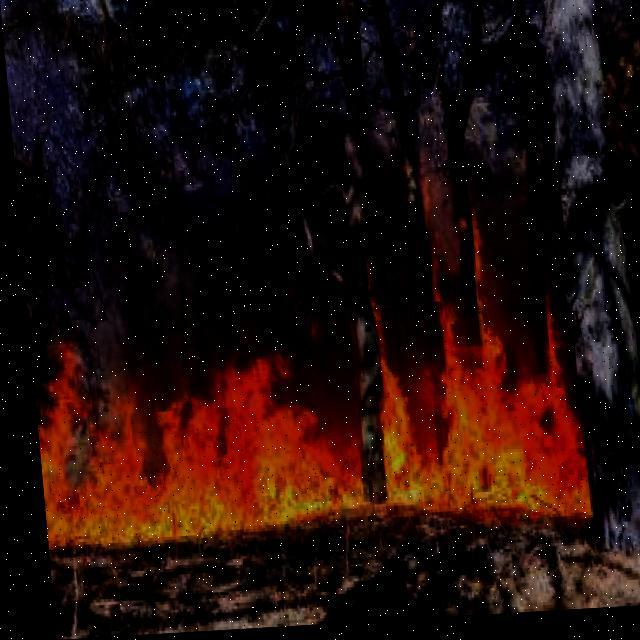Fire: (25, 306, 588, 561), (629, 377, 639, 537)
